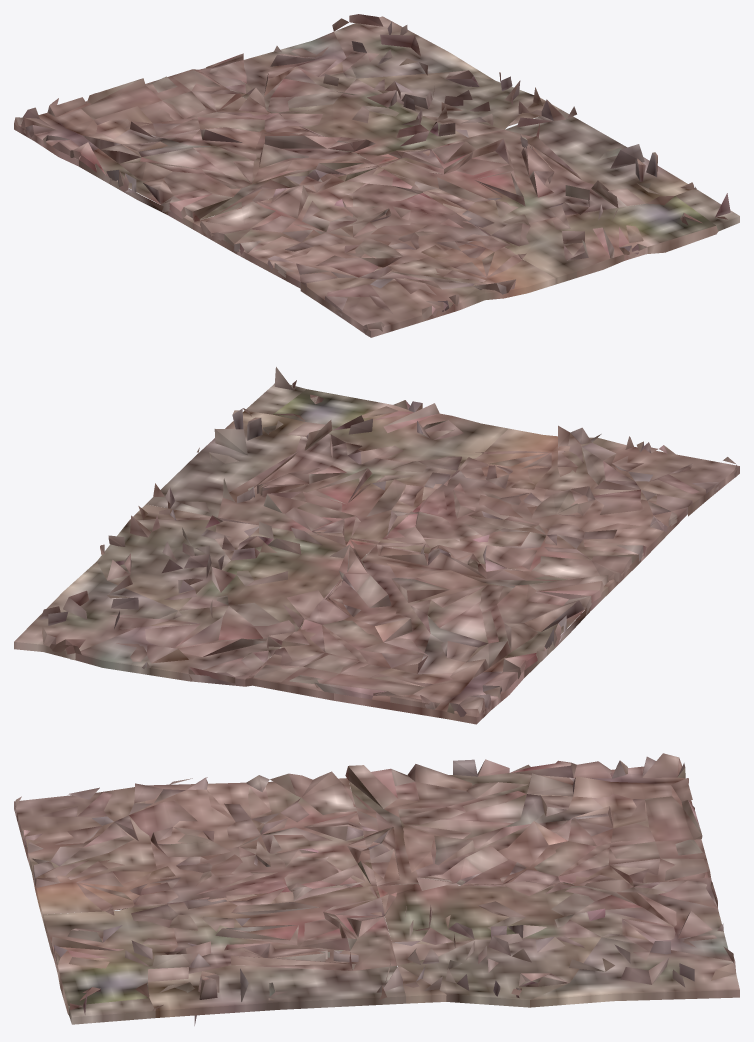
3 views of the same model, one above another, from view 1: azimuth 30°, elevation 25°; view 2: azimuth 150°, elevation 25°; view 3: azimuth 270°, elevation 25° (orthographic). The views are drawn at different scales.
Parts seen in each view (by area): view 1: Mesh_0; view 2: Mesh_0; view 3: Mesh_0.
Part boxes in pixels (bbox=[...]): Mesh_0: bbox=[14, 14, 739, 337]; Mesh_0: bbox=[14, 367, 739, 724]; Mesh_0: bbox=[14, 753, 739, 1025].
Bounding box in the file's own units: 1064 × 99.09 × 1318.
1 material, 1 textured.
